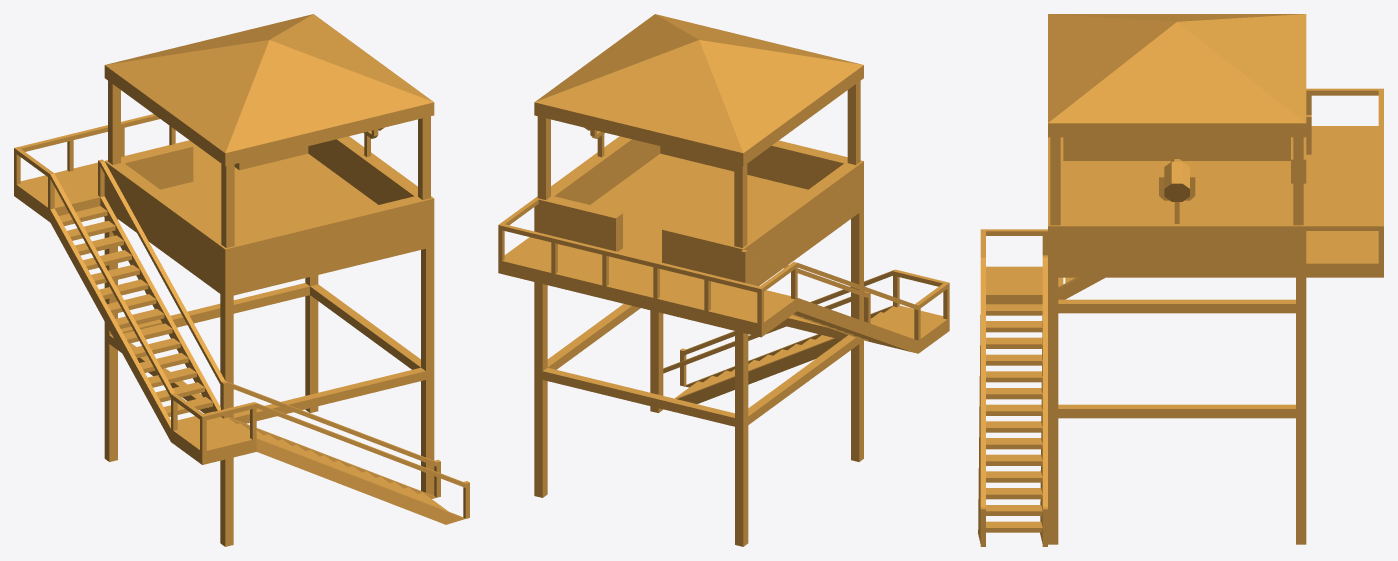
The model's file is military-tower.fbx.
The picture shows the model from 3 angles, left to right: view 1: azimuth 30°, elevation 25°; view 2: azimuth 150°, elevation 25°; view 3: azimuth 270°, elevation 25°; orthographic projection. The views are drawn at different scales.
Visible parts, largest first — view 1: military-tower; view 2: military-tower; view 3: military-tower.
Part boxes in pixels (x1,y1,x2,y2): military-tower: (14, 14, 469, 546); military-tower: (498, 14, 949, 546); military-tower: (978, 14, 1383, 546).
Size of the model in its own units: 6.56 by 10 by 7.85.
